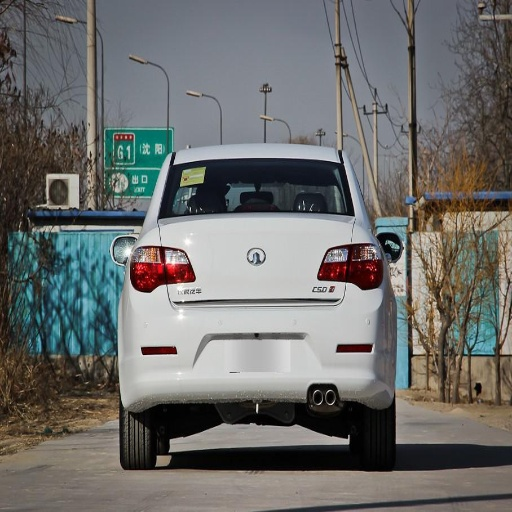back_bumper: (123, 283, 396, 406)
trunk: (155, 215, 358, 343)
